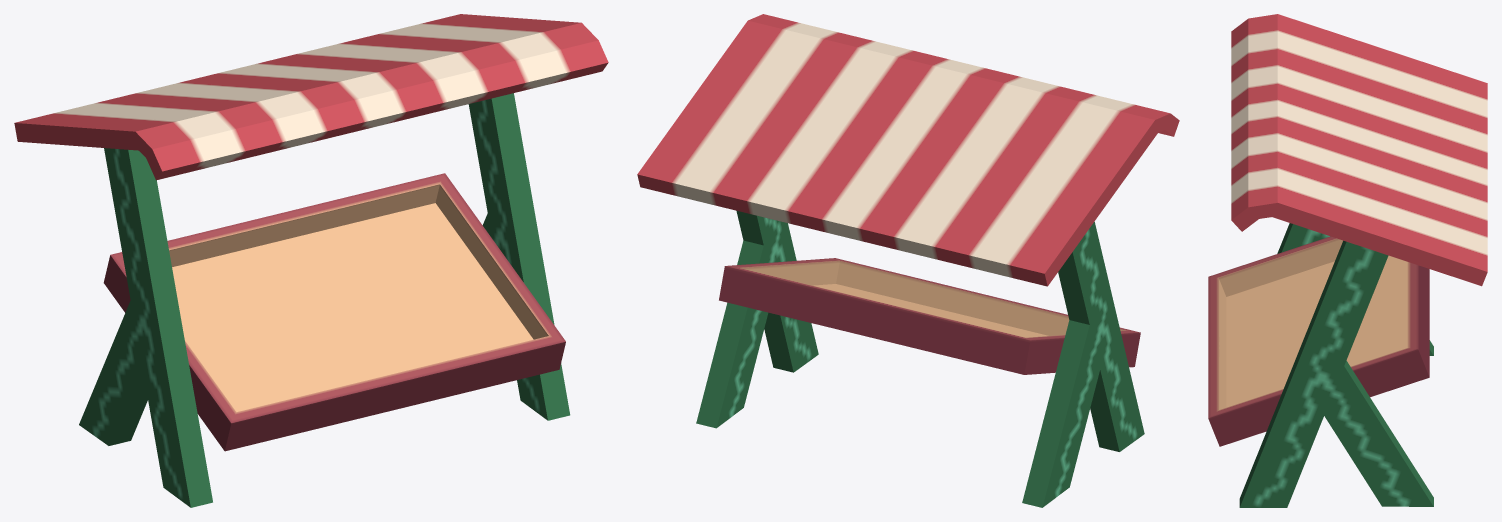
File: Stall.fbx
The picture shows the model from 3 angles, left to right: view 1: azimuth 30°, elevation 25°; view 2: azimuth 150°, elevation 25°; view 3: azimuth 270°, elevation 25°; orthographic projection. The views are drawn at different scales.
Parts seen in each view (by area): view 1: Stall; view 2: Stall; view 3: Stall.
Boxes of the visible parts, left/top/right/bottom form: Stall: left=14, top=14, right=608, bottom=507; Stall: left=637, top=14, right=1179, bottom=507; Stall: left=1208, top=14, right=1487, bottom=507.
Bounding box in the file's own units: 2.4 × 1.89 × 1.5.
Materials: 1 (1 with a texture image).
